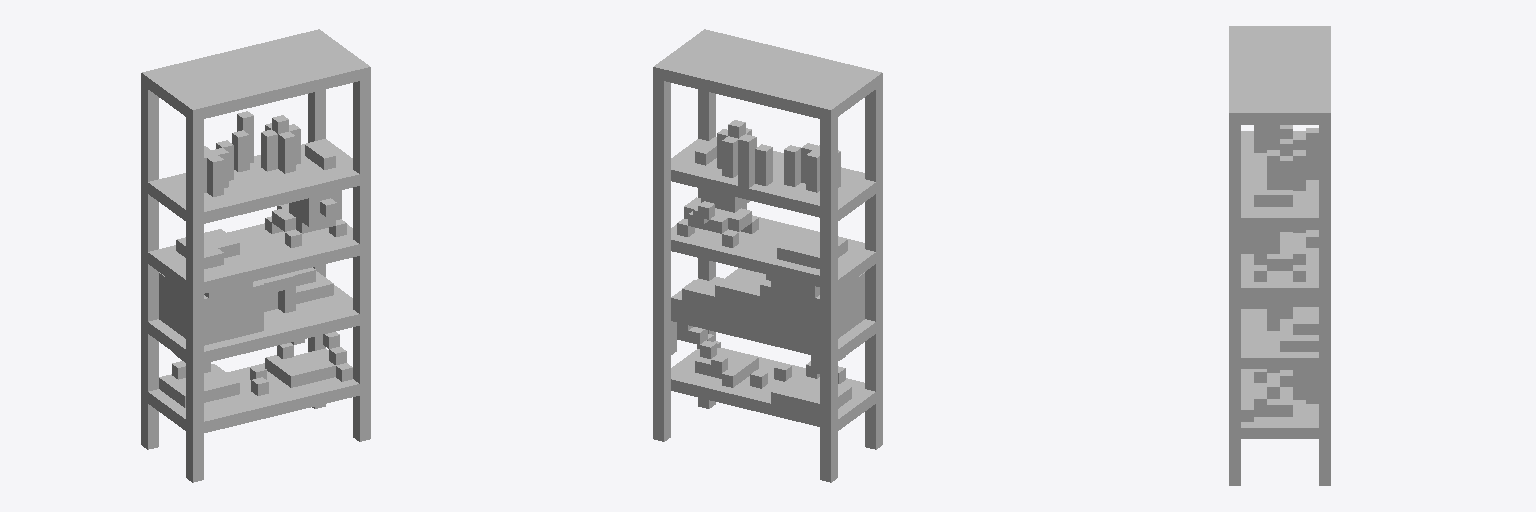
File: Shelf.obj
3 renders of one model, left to right at view 1: azimuth 30°, elevation 25°; view 2: azimuth 150°, elevation 25°; view 3: azimuth 270°, elevation 25°, orthographic.
Visible parts, largest first — view 1: object 1; view 2: object 1; view 3: object 1.
Part boxes in pixels (left/top/right/bottom): object 1: left=141, top=29, right=370, bottom=482; object 1: left=653, top=29, right=882, bottom=482; object 1: left=1229, top=26, right=1330, bottom=485.
Size of the model in its own units: 1.6 by 3.2 by 0.8.